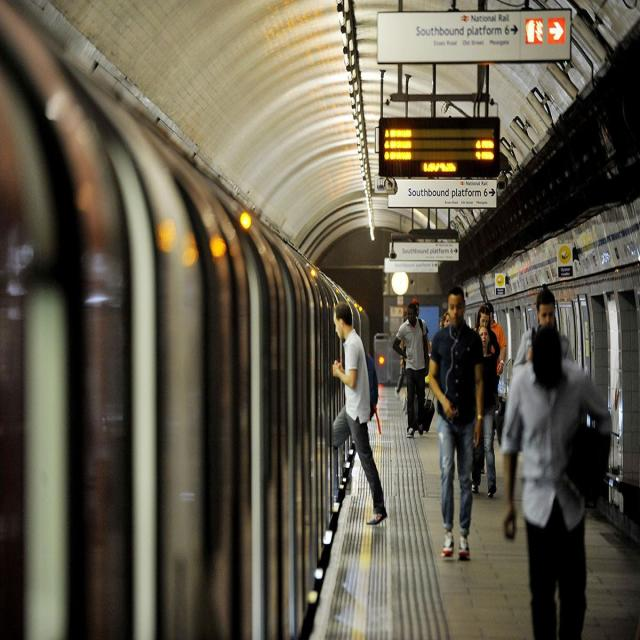body: (493, 319, 617, 639), (298, 298, 391, 528), (425, 282, 486, 564), (512, 288, 574, 379), (390, 300, 430, 440), (471, 324, 500, 498), (483, 302, 508, 398), (472, 303, 501, 359), (395, 325, 408, 417), (413, 297, 431, 356), (438, 312, 451, 330)
